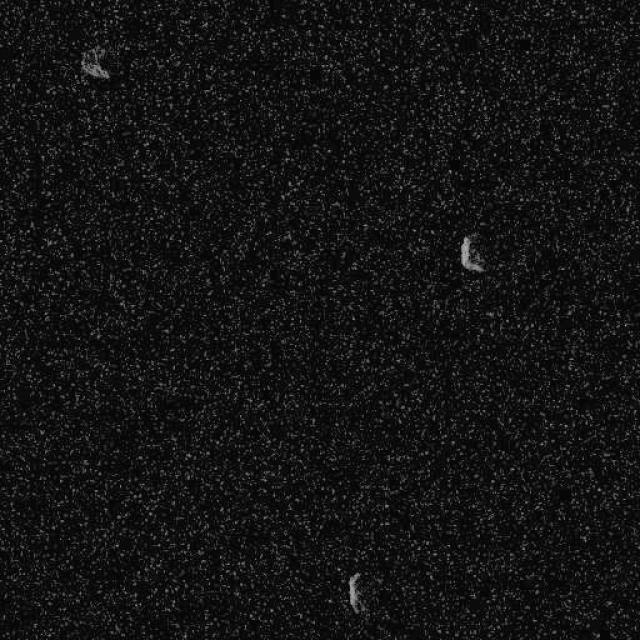D2: (79, 45, 111, 81), (459, 232, 486, 274), (346, 570, 366, 615)
